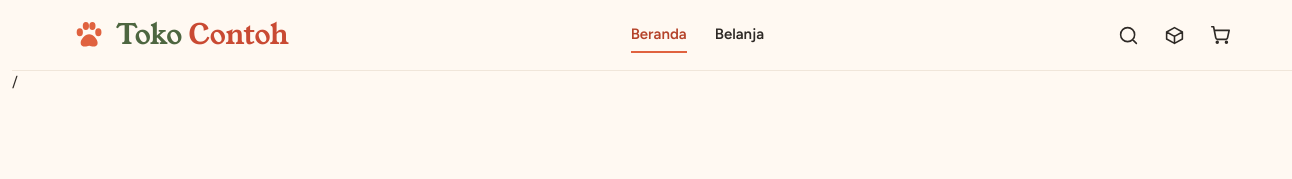
Test case: Header › searches the catalogue, trimmed, and closes the bar on the way
The width and height of the screenshot is (1292, 179).
Click the button named "Cari produk" at (1128, 35), box [1106, 13, 1150, 57]
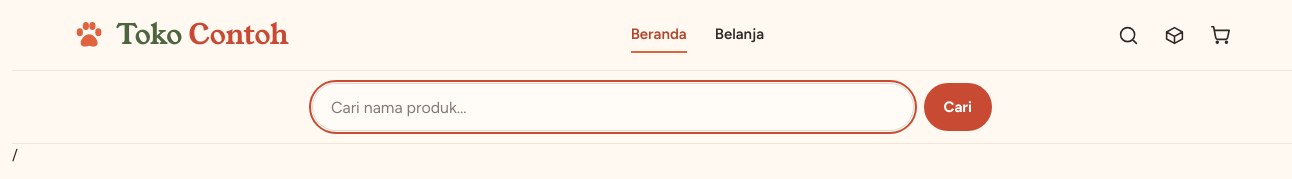
Type "  almond  " into the search field with placeholder "Cari nama produk…" at (613, 107), box [312, 83, 914, 131]
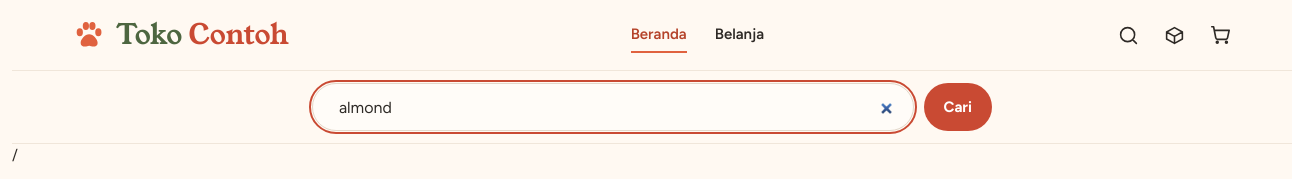
Submit the form, box [272, 71, 1032, 143]
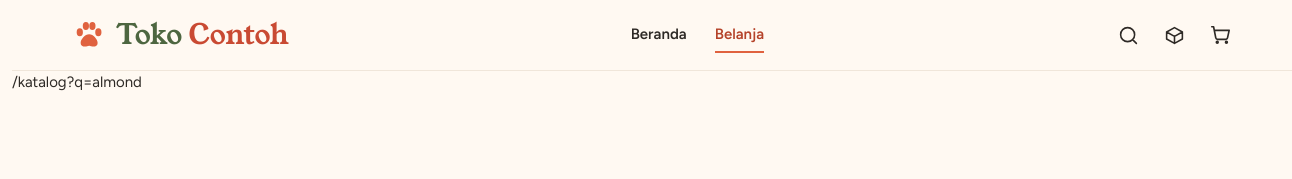
Check: the text with test id "where" reads "/katalog?q=almond", box [12, 73, 142, 91]
